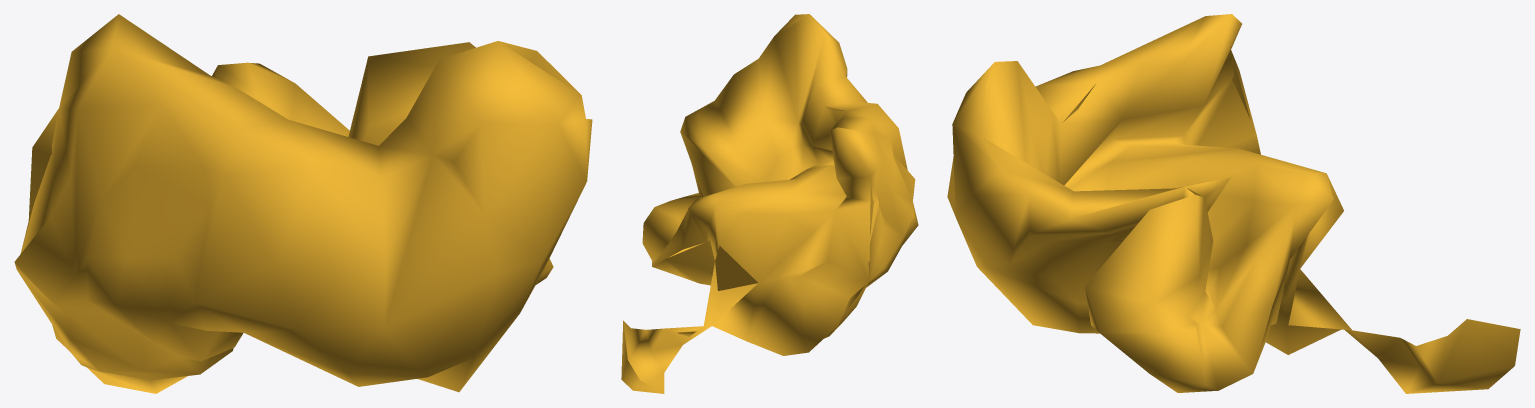
The model's file is nervoso-temporal-pole-l.glb.
The picture shows the model from 3 angles, left to right: view 1: azimuth 30°, elevation 25°; view 2: azimuth 150°, elevation 25°; view 3: azimuth 270°, elevation 25°; orthographic projection. The views are drawn at different scales.
Visible parts, largest first — view 1: Temporal pole.l; view 2: Temporal pole.l; view 3: Temporal pole.l.
Boxes of the visible parts, x1,y1,x2,y2 form: Temporal pole.l: (14,14,592,393); Temporal pole.l: (621,14,918,393); Temporal pole.l: (947,14,1520,393).
Size of the model in its own units: 0.0295 by 0.0277 by 0.042.
